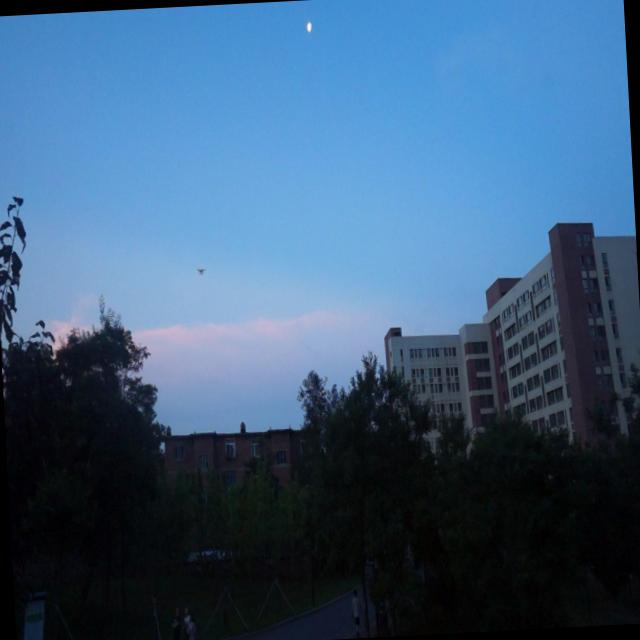drone: (195, 264, 205, 277)
